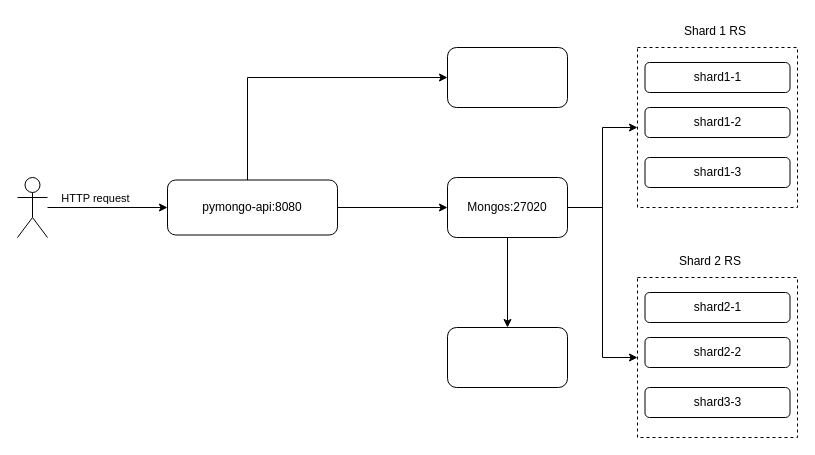
This 815x455 diagram has some shape labels left out. The box of each missing label's shape, as (x1, y1, x2, y2) in pixels:
Client: (16, 176, 48, 238)
configSrv :27017: (446, 326, 568, 388)
Redis:6379: (446, 46, 568, 108)
